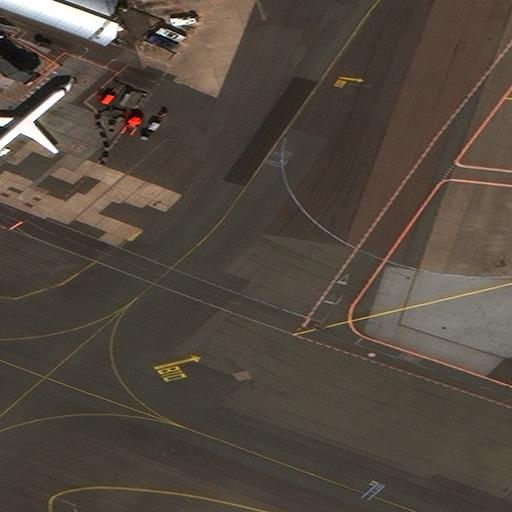Medium Civil Transport: (0, 81, 71, 163)
